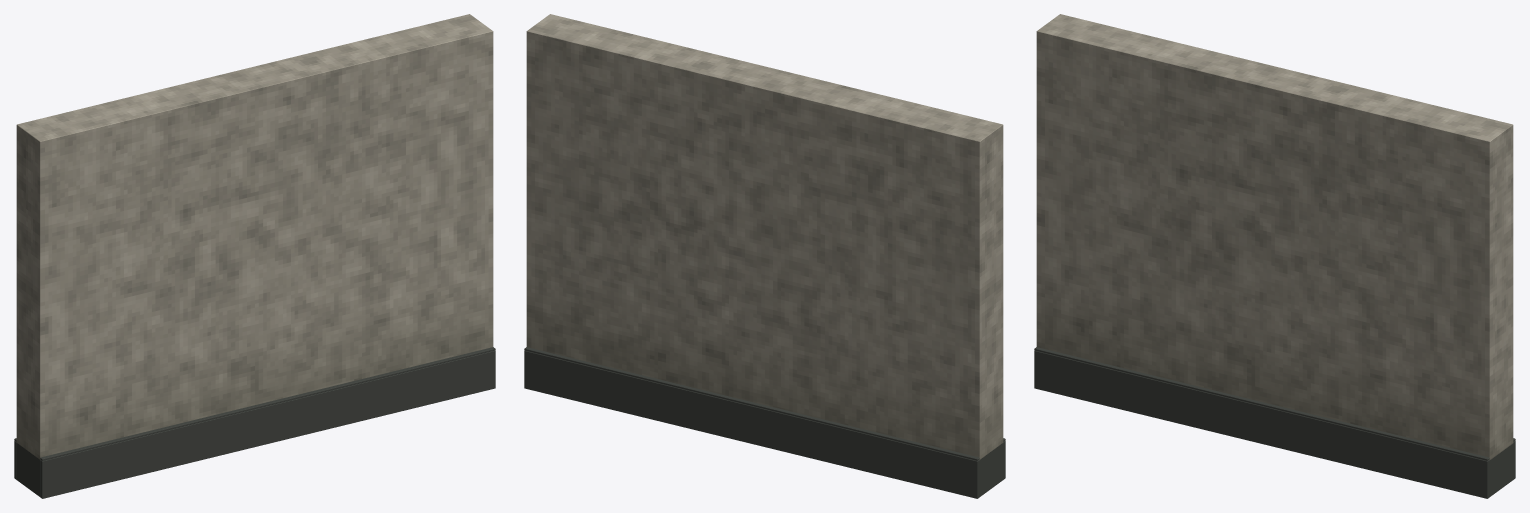
File: Wall_Solid.glb
The picture shows the model from 3 angles, left to right: view 1: azimuth 30°, elevation 25°; view 2: azimuth 150°, elevation 25°; view 3: azimuth 330°, elevation 25°; orthographic projection.
Visible parts, largest first — view 1: Wall_Solid_Export; view 2: Wall_Solid_Export; view 3: Wall_Solid_Export.
Part boxes in pixels (x1,y1,x2,y2): Wall_Solid_Export: [14, 14, 495, 498]; Wall_Solid_Export: [524, 14, 1005, 498]; Wall_Solid_Export: [1034, 14, 1515, 498].
Bounding box in the file's own units: 4 × 3 × 0.43.
1 material, 1 textured.
